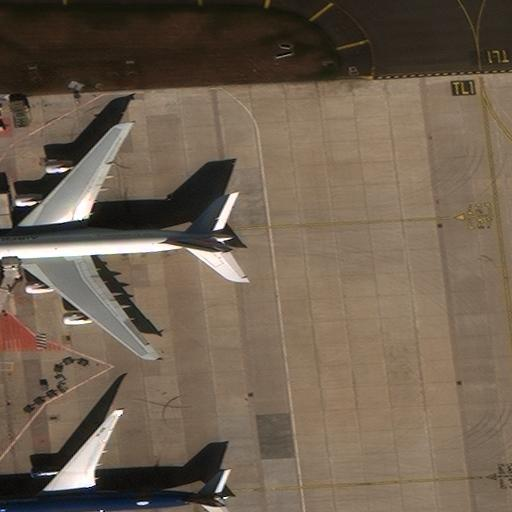Large Civil Transport: (0, 123, 235, 360), (0, 409, 227, 511)
